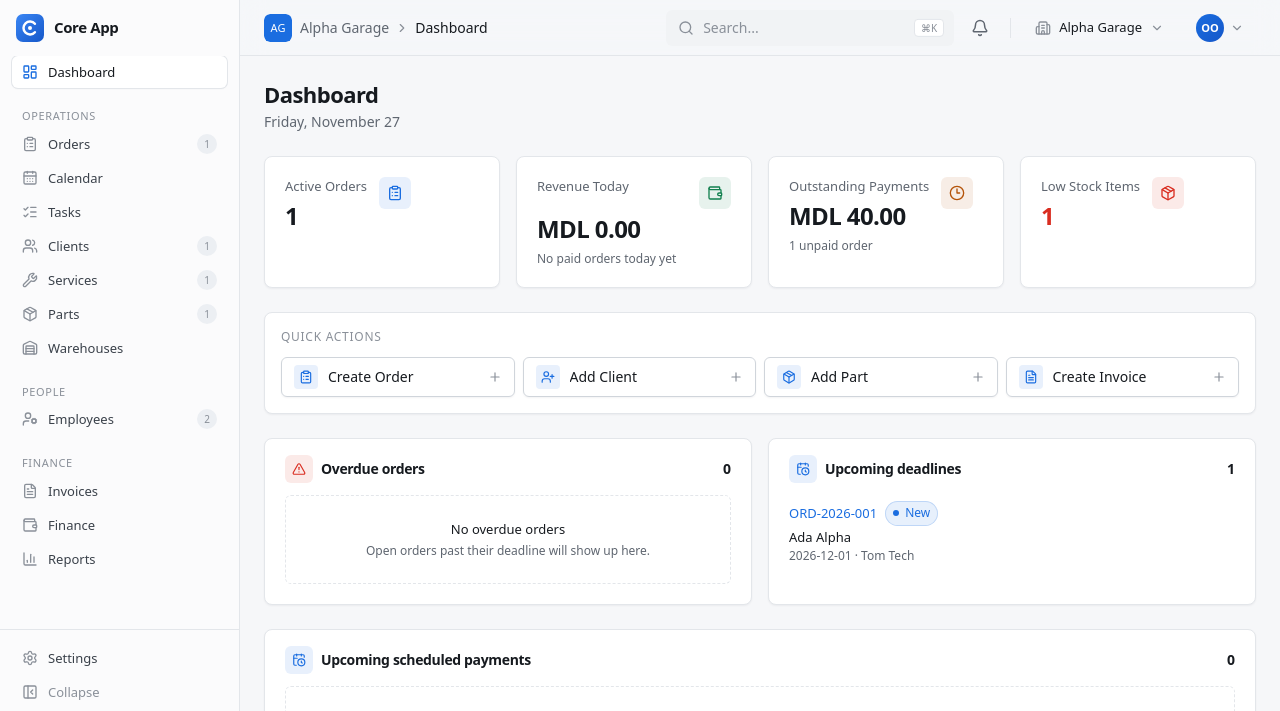
dashboard quick actions › Add Client opens its create form in a dialog over the dashboard
This screenshot has width=1280, height=711.
Expected: the heading "Quick Actions" is shown, 281,328 -> 382,345
Expected: the button "Add Part" is shown, 764,357 -> 998,397
Step 1. Click the button "Add Client" → (639, 377), box 522,357 -> 756,397
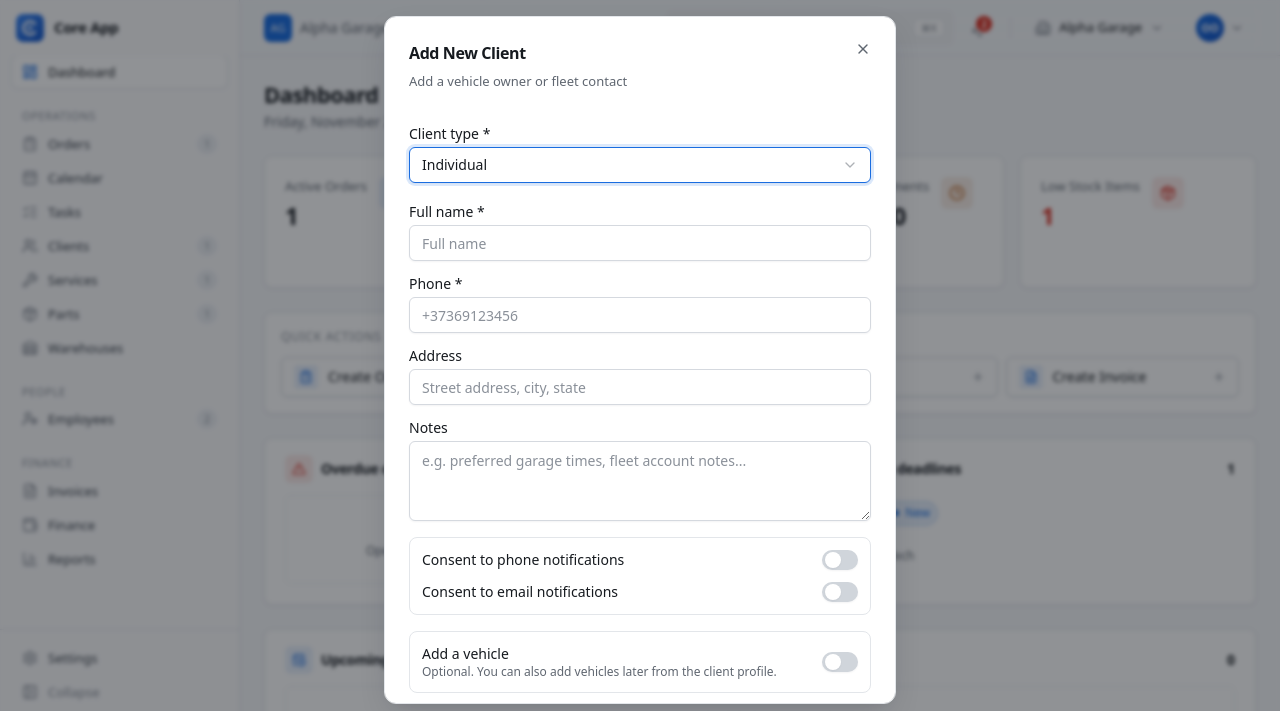
Step 2. Press Escape
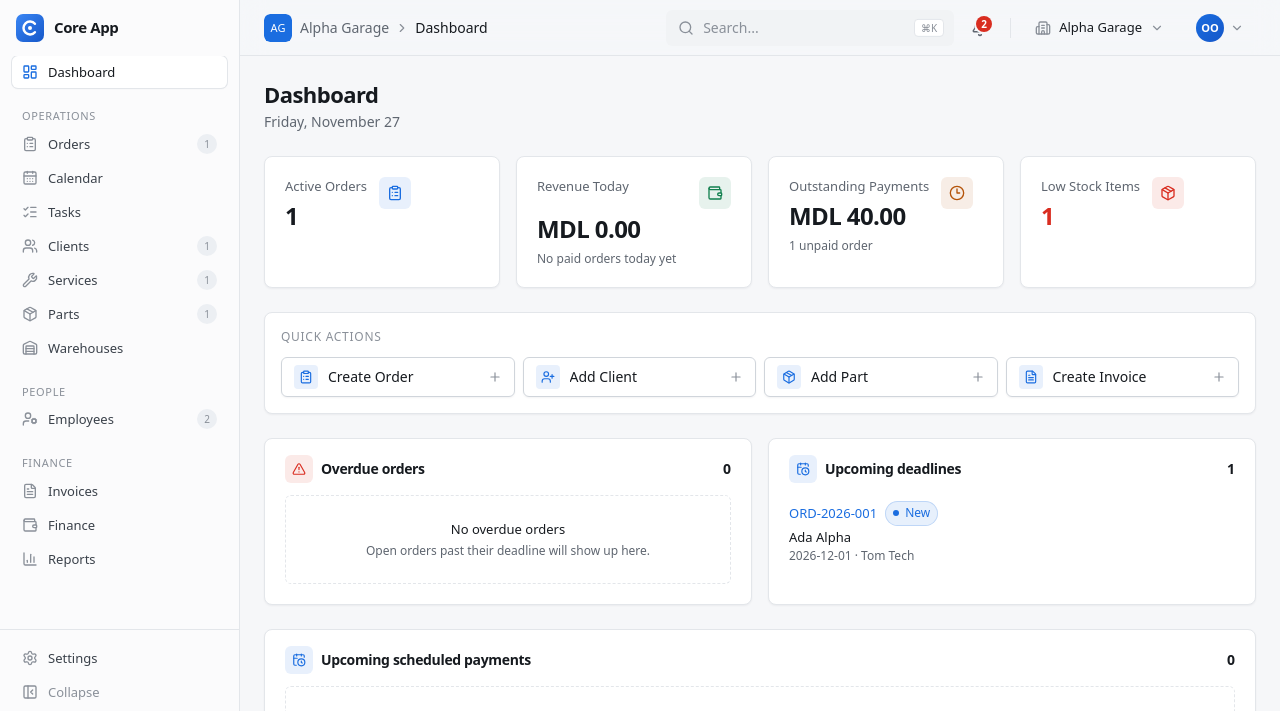
Expected: the heading "Quick Actions" is shown, 281,328 -> 382,345
Now the dialog is gone
